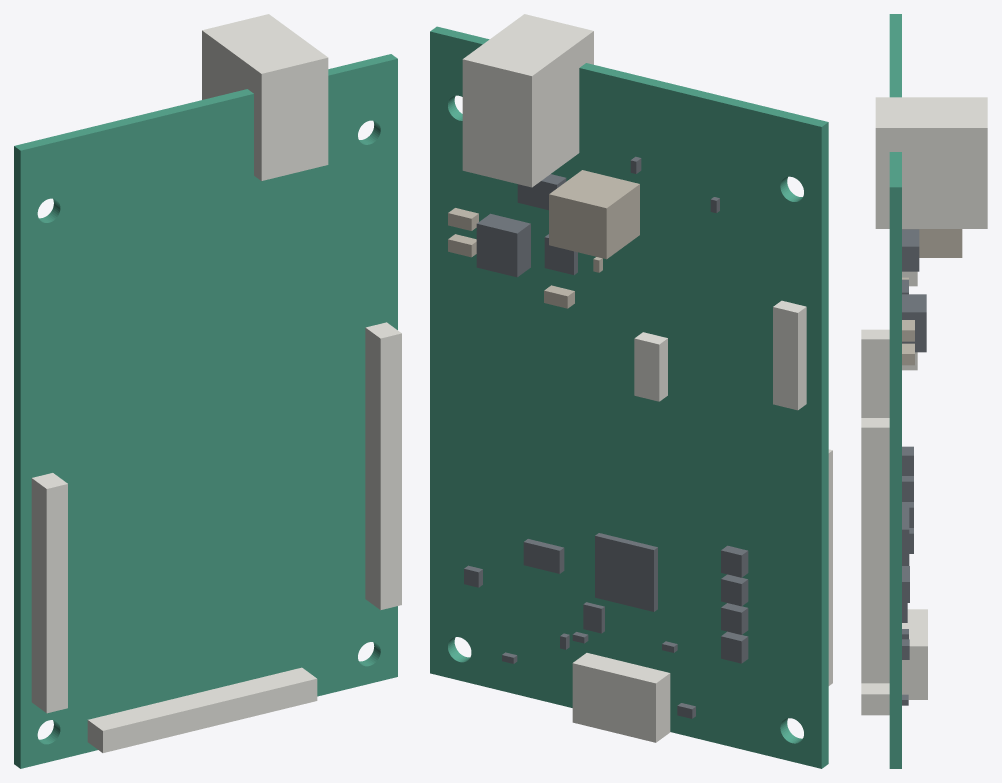
Rendered from Direct_LDO_Carrier_V6.glb.
The picture shows the model from 3 angles, left to right: view 1: azimuth 30°, elevation 25°; view 2: azimuth 150°, elevation 25°; view 3: azimuth 270°, elevation 25°; orthographic projection. The views are drawn at different scales.
Parts seen in each view (by area): view 1: board, conn; view 2: board, conn, ic, passive; view 3: conn, board, ic, passive.
Boxes of the visible parts, x1,y1,x2,y2 form: board: (14, 54, 397, 768); conn: (31, 14, 401, 752); board: (430, 26, 828, 768); conn: (462, 14, 832, 742); ic: (464, 156, 748, 718); passive: (448, 170, 639, 308); conn: (861, 97, 987, 715); board: (889, 14, 901, 768); ic: (902, 229, 926, 705); passive: (902, 229, 962, 365).
Size of the model in its own units: 53 by 86.46 by 16.37.
